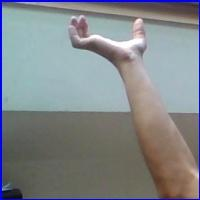space: (63, 11, 154, 71)
